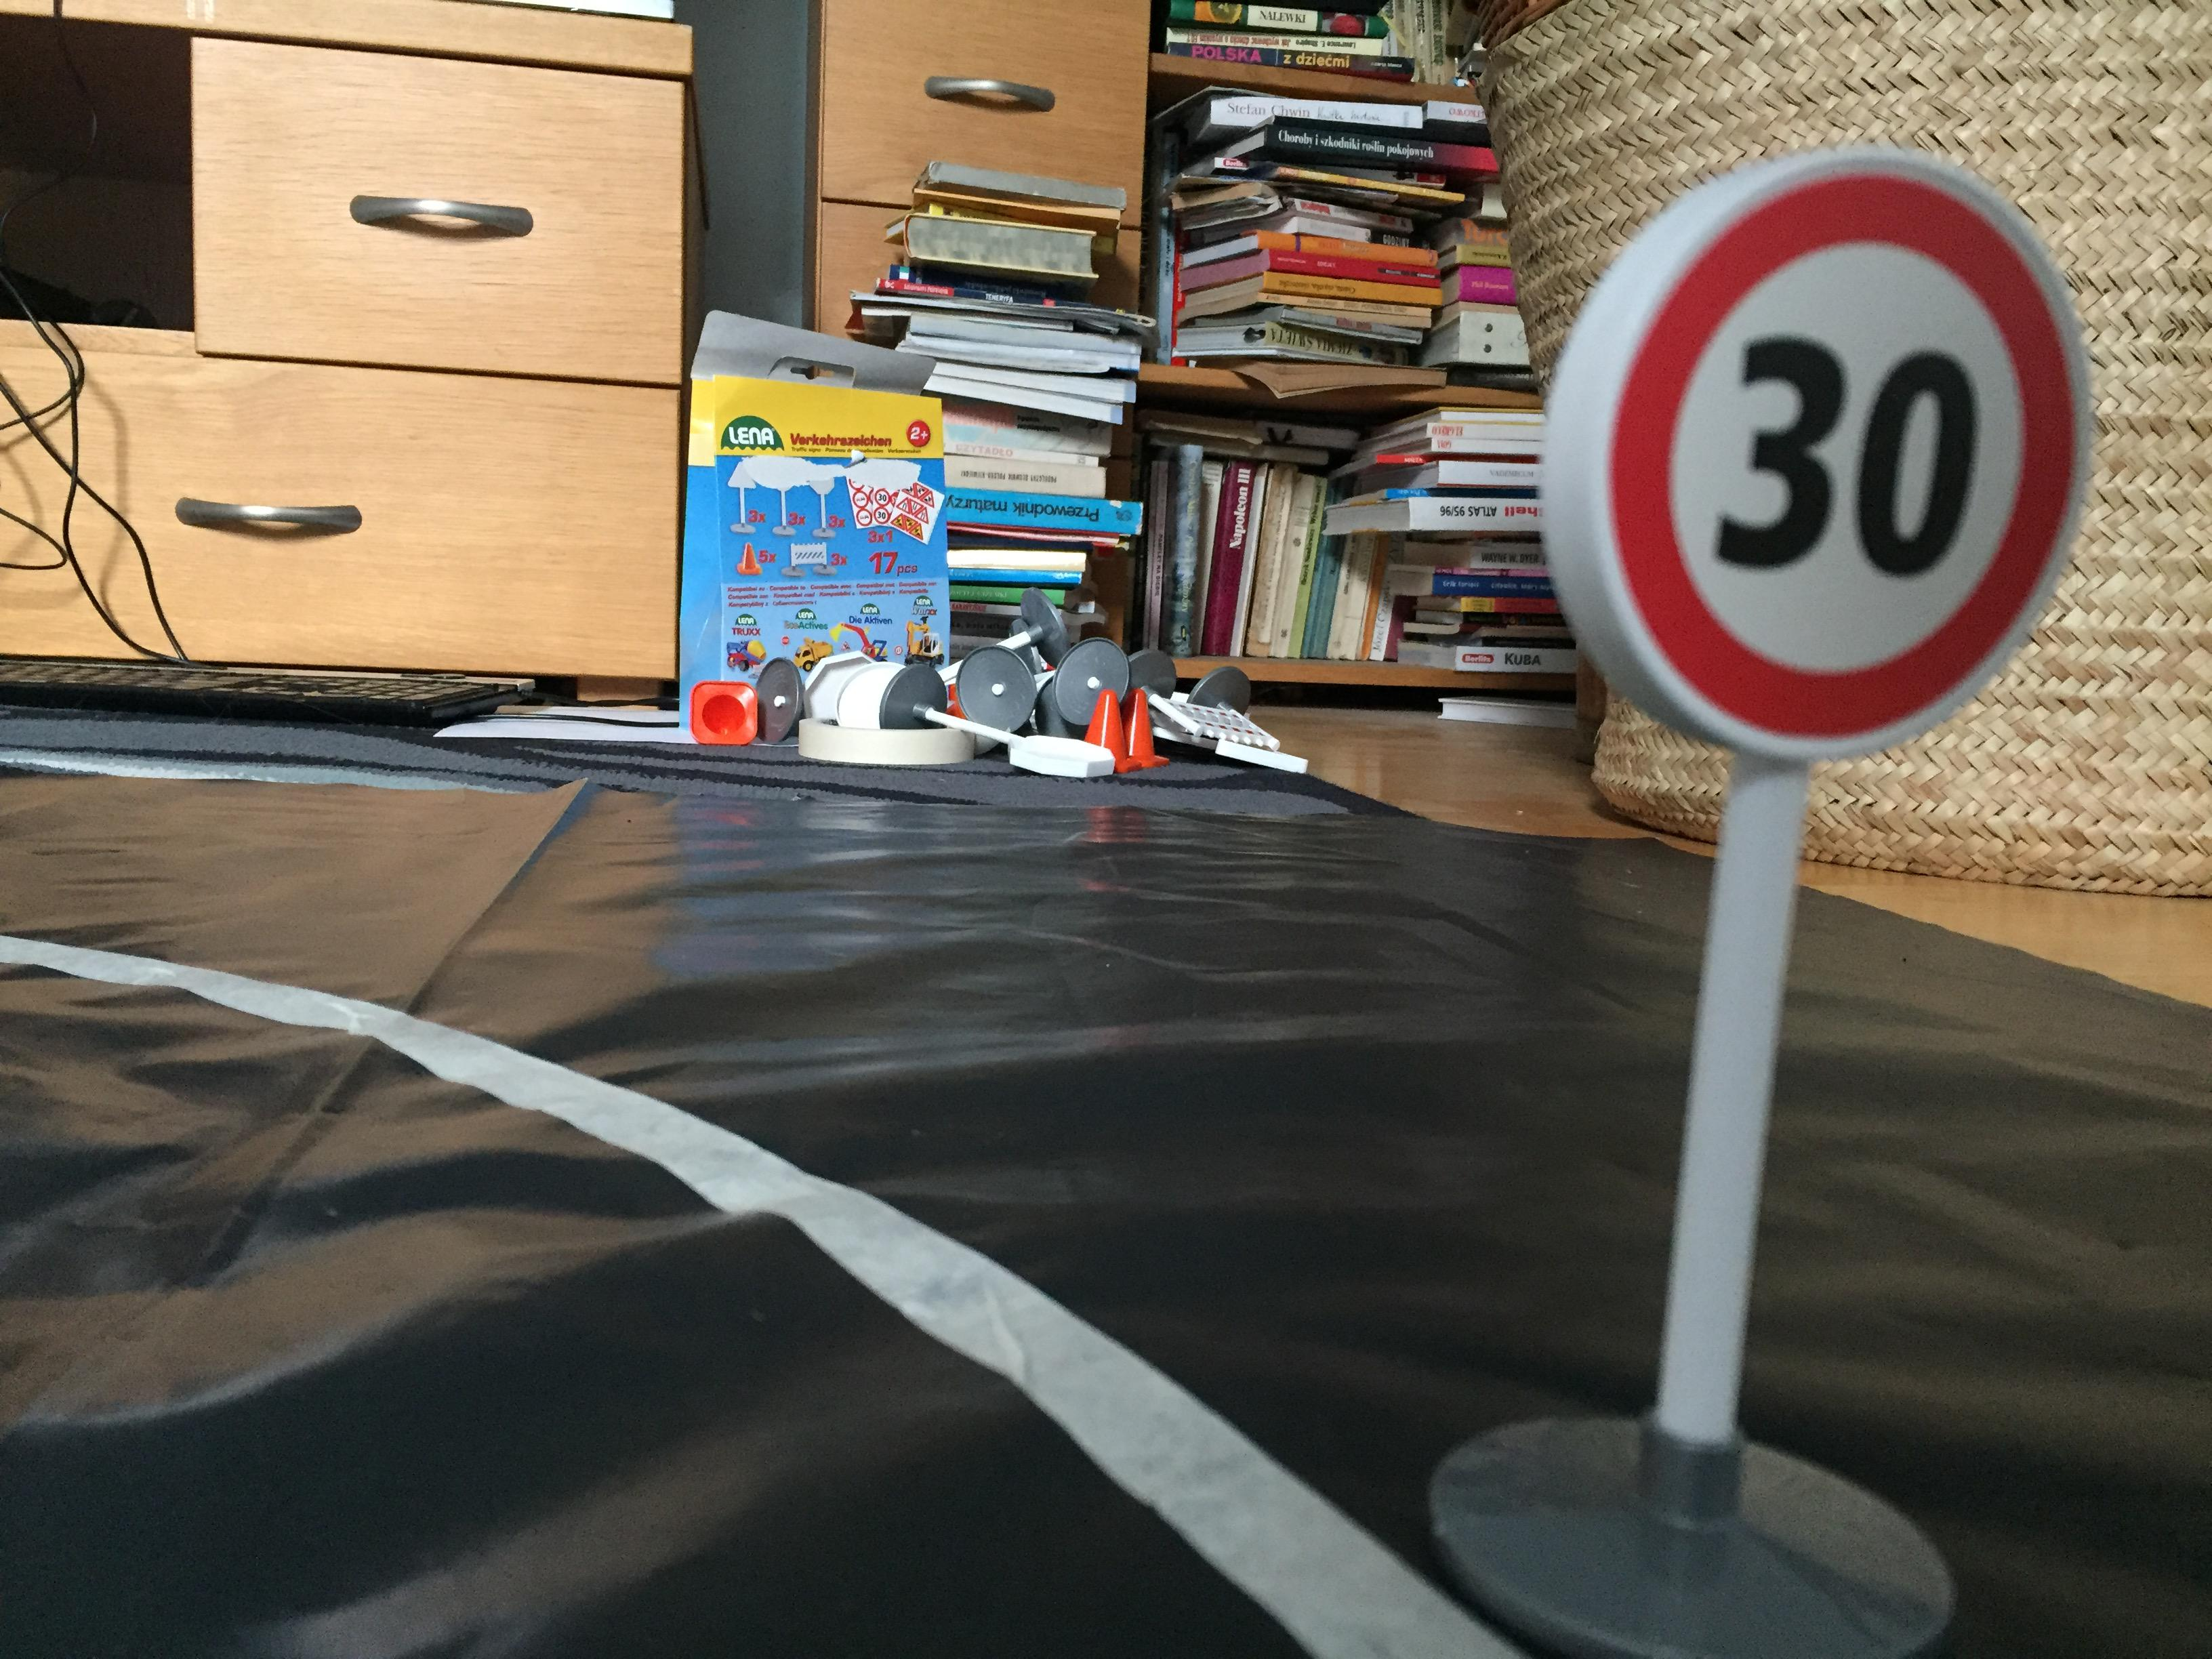speed: (1529, 138, 2128, 772)
